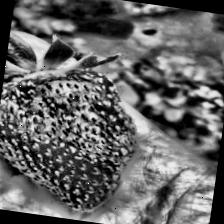Anthracnose Fruit Rot: (0, 57, 149, 179)
